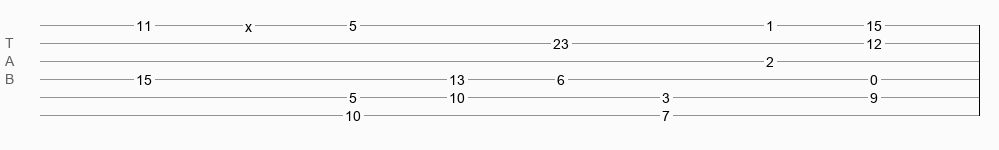0: (870, 72, 878, 82)
1: (766, 18, 774, 28)
10: (345, 108, 361, 118), (449, 90, 465, 100)
11: (136, 18, 152, 28)
12: (866, 36, 882, 46)
13: (449, 72, 465, 82)
15: (136, 72, 152, 82), (866, 18, 882, 28)
2: (766, 54, 774, 64)
23: (553, 36, 569, 46)
3: (662, 90, 670, 100)
5: (349, 90, 357, 100), (349, 18, 357, 28)
6: (557, 72, 565, 82)
7: (662, 108, 670, 118)
9: (870, 90, 878, 100)
x: (245, 19, 252, 27)
